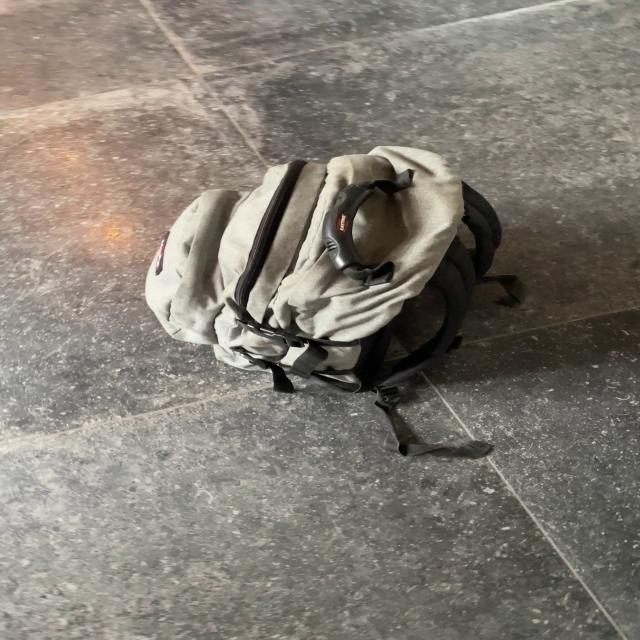backpack: (131, 138, 514, 394)
